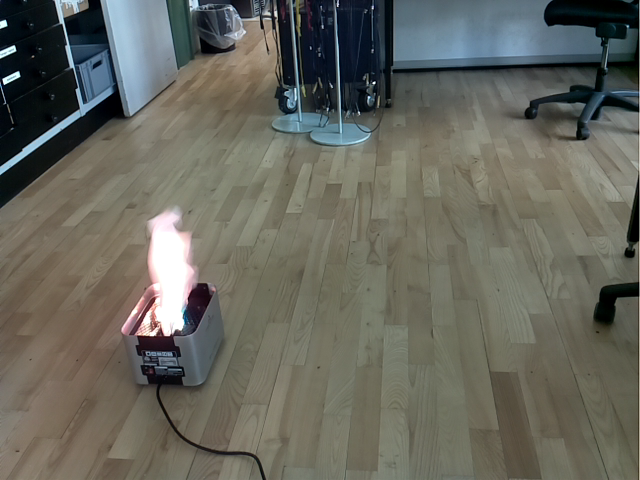fire: (147, 207, 197, 336)
